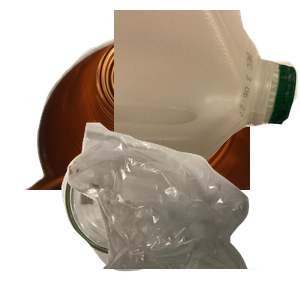glass: (59, 135, 254, 300)
metal: (21, 29, 261, 209)
plastic: (114, 10, 300, 179)
trash: (65, 120, 300, 300)
